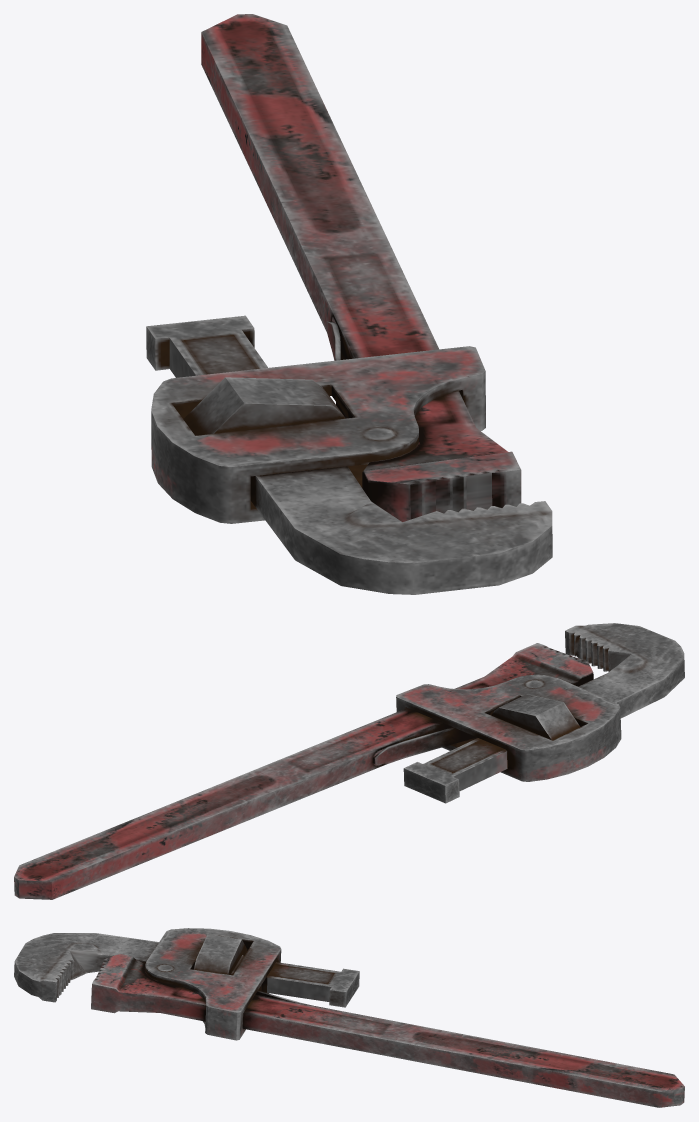
File: wrench.fbx
3 views of the same model, one above another, from view 1: azimuth 30°, elevation 25°; view 2: azimuth 150°, elevation 25°; view 3: azimuth 270°, elevation 25° (orthographic). The views are drawn at different scales.
Parts seen in each view (by area): view 1: wrench; view 2: wrench; view 3: wrench.
Boxes of the visible parts, left/top/right/bottom form: wrench: left=146, top=14, right=552, bottom=594; wrench: left=14, top=623, right=684, bottom=899; wrench: left=14, top=928, right=684, bottom=1107.
Size of the model in its own units: 55.12 by 10.28 by 113.
Materials: 1 (1 with a texture image).
